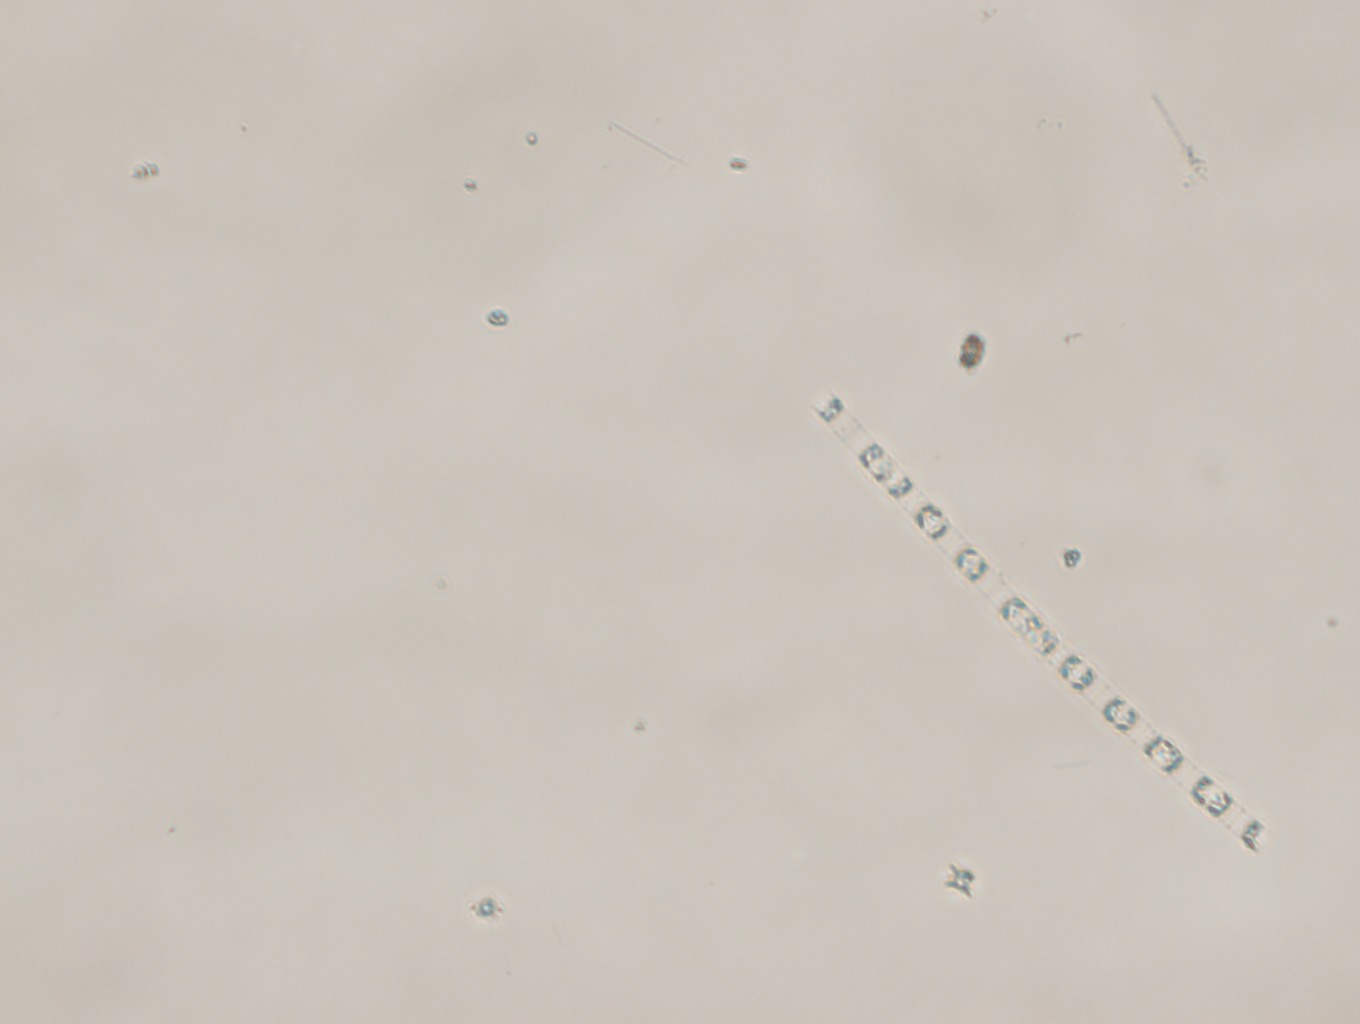skeletonema: (801, 383, 1274, 863)
